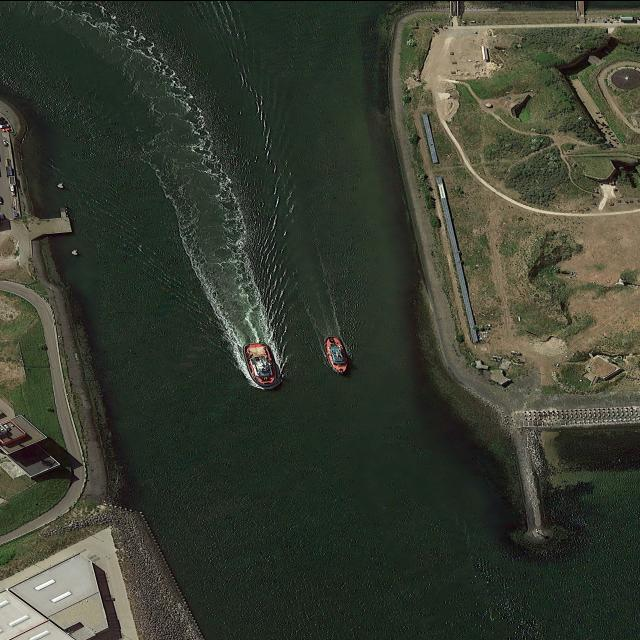ship: (240, 338, 284, 388), (323, 334, 353, 374)
